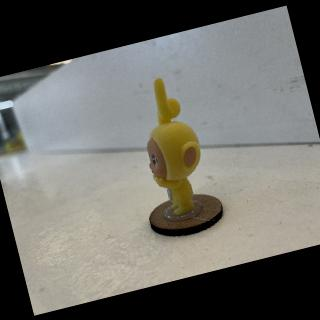teletubby: (147, 77, 200, 216)
